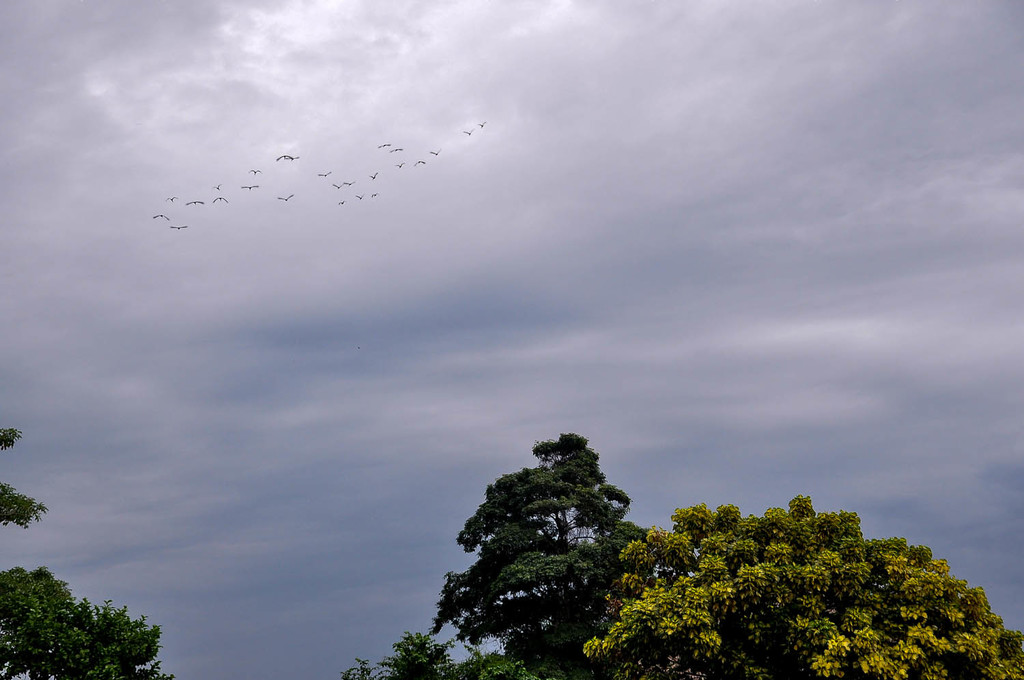Tree: (568, 492, 1023, 679), (422, 413, 656, 658), (0, 567, 175, 679), (357, 631, 613, 679), (0, 476, 40, 521), (0, 412, 19, 451)
